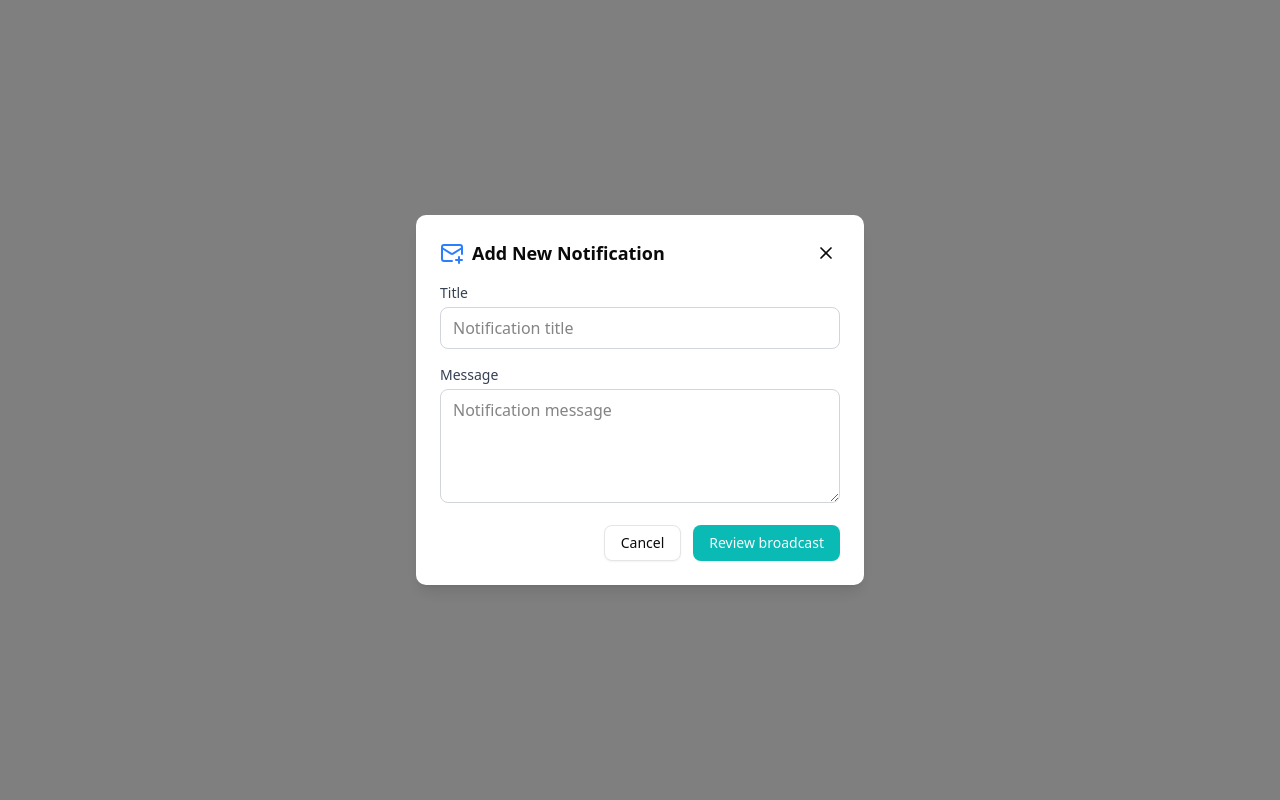
Scenario: AddNotificationModal — the first click never broadcasts › sends nothing when the compose step is submitted
The width and height of the screenshot is (1280, 800).
Type "Markets closed Friday" into the field with placeholder "Notification title" at (640,328), box [440,307,840,349]
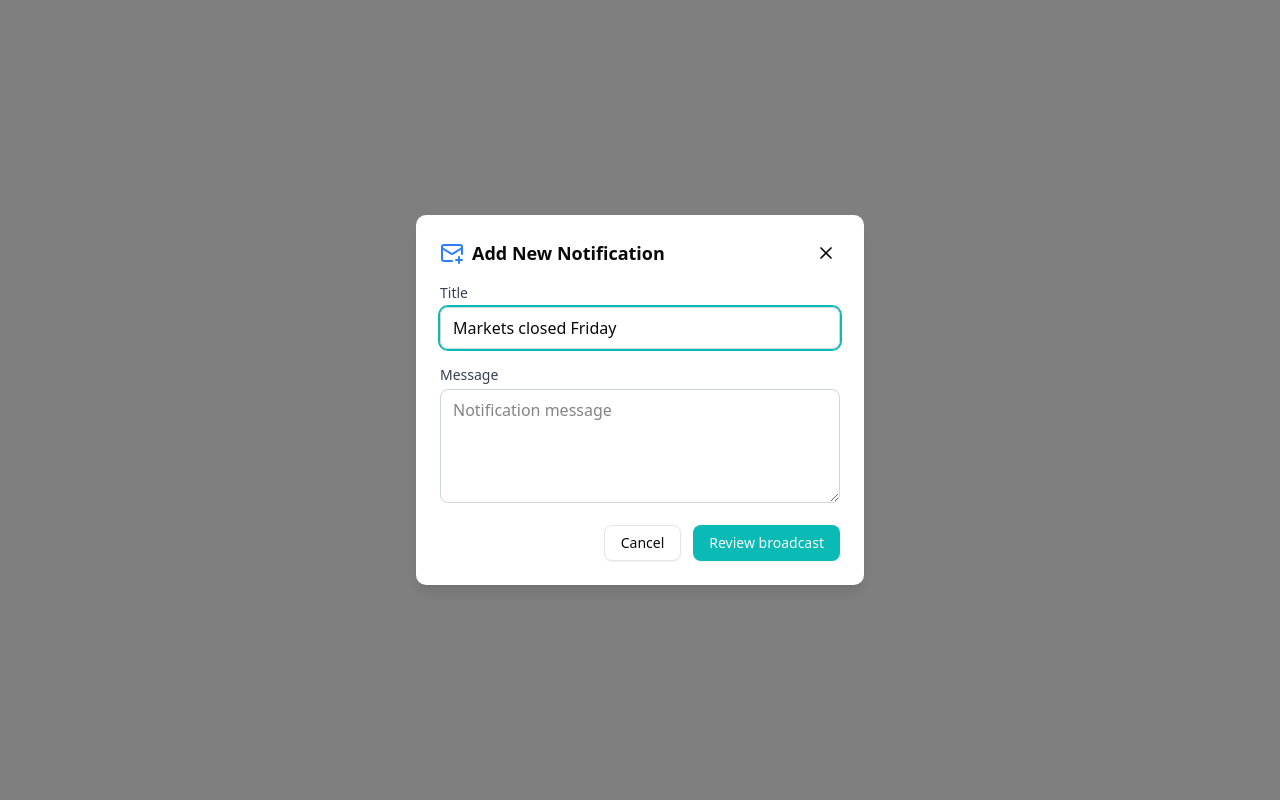
Type "The desk is shut for the holiday." into the text box with placeholder "Notification message" at (640,446), box [440,389,840,503]
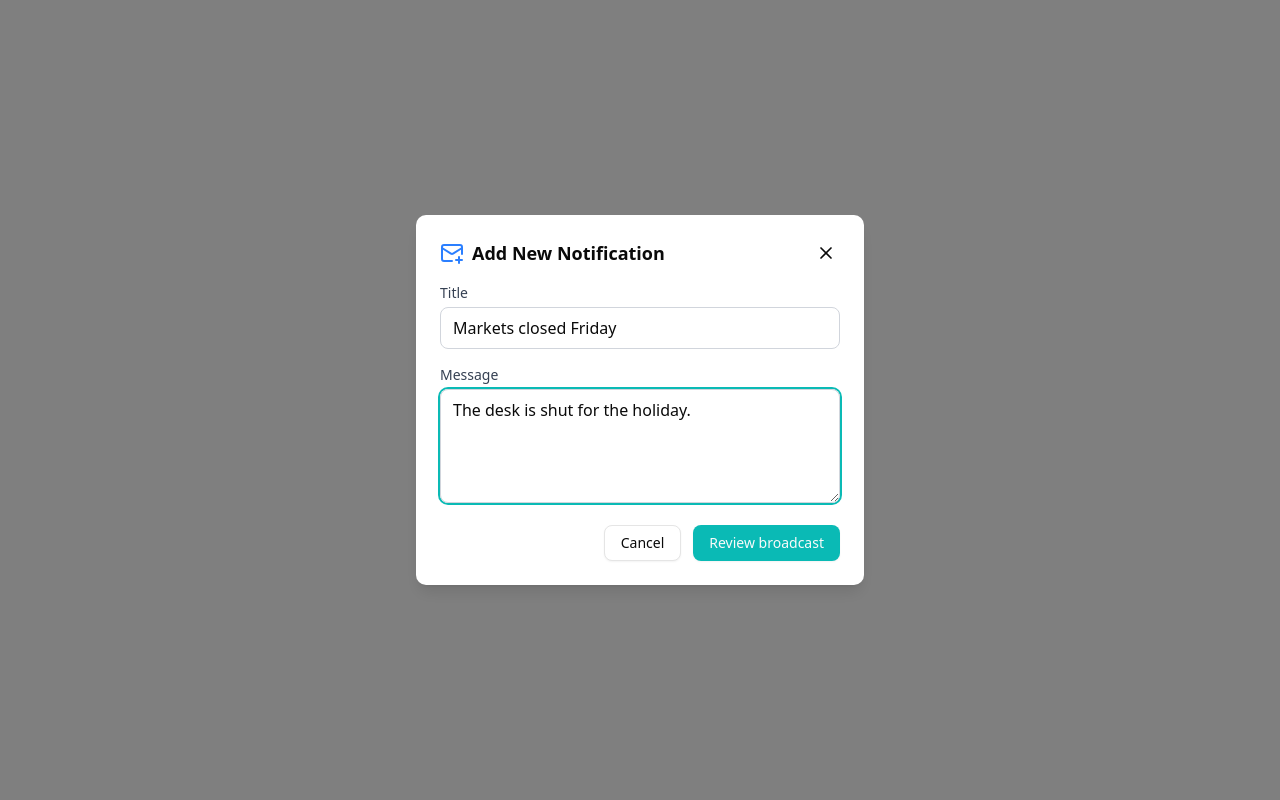
Click the button "Review broadcast" at (767,543), box [693,525,840,561]
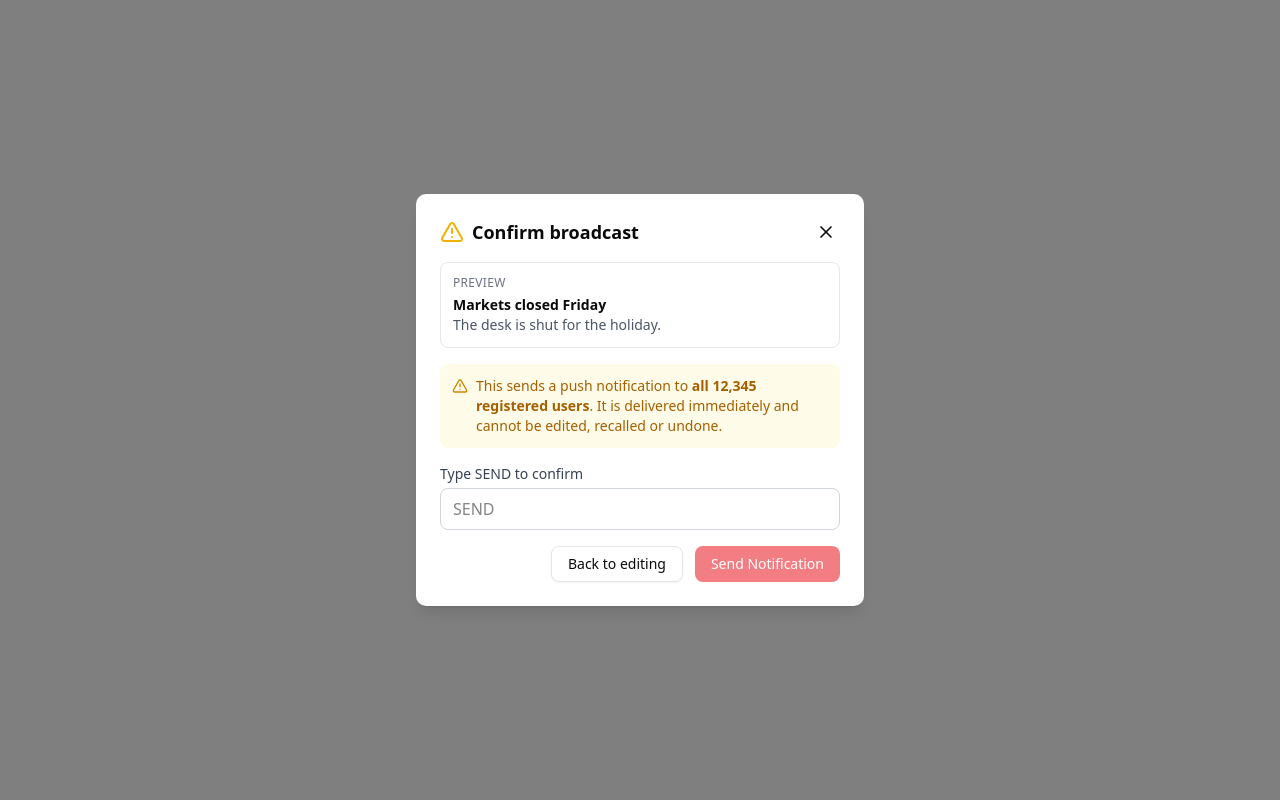
Result: the heading "Confirm broadcast" is shown at [472,218,639,246]
